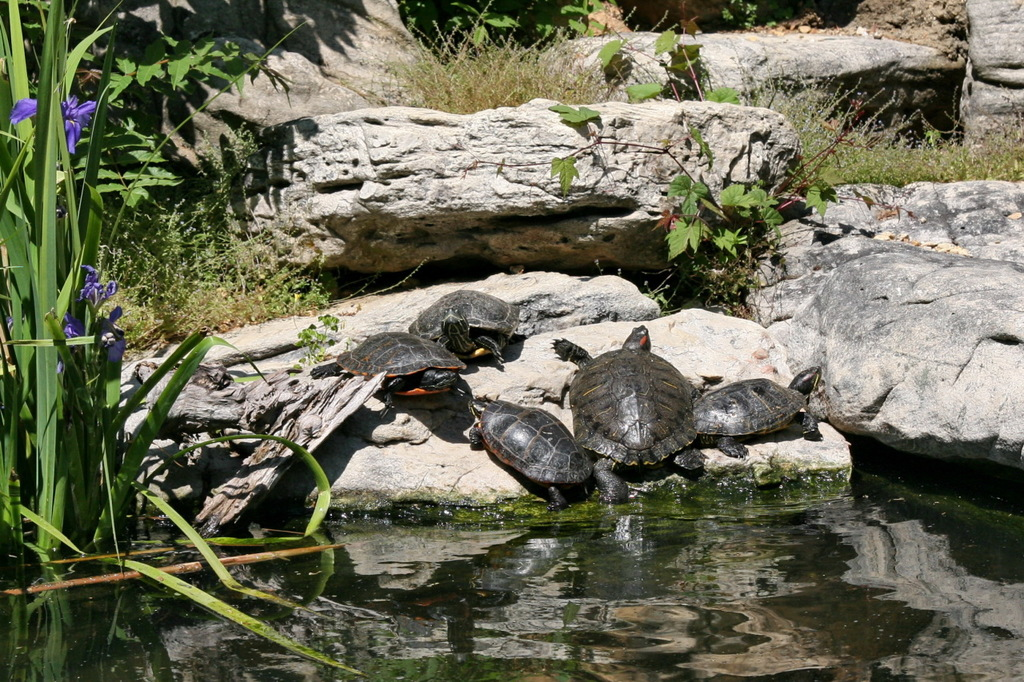Sea turtles: (305, 281, 819, 511)
